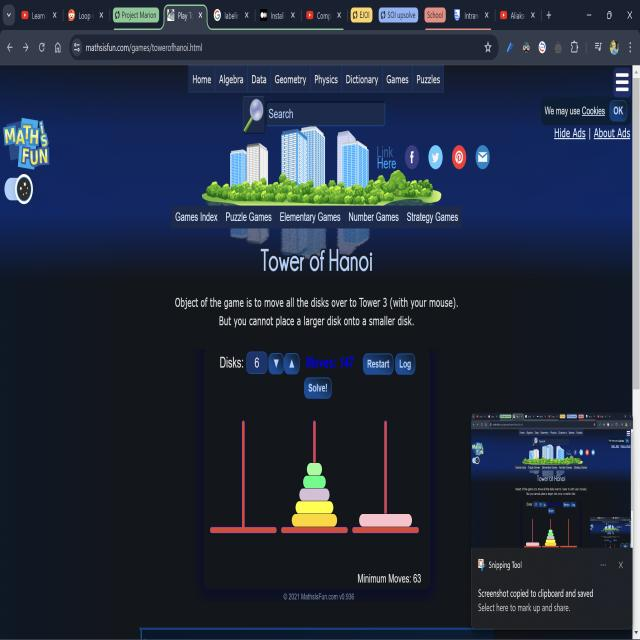disk1: (307, 462, 322, 476)
disk2: (303, 476, 326, 488)
disk3: (299, 488, 330, 501)
disk4: (296, 501, 334, 514)
disk5: (292, 514, 337, 526)
disk6: (359, 514, 412, 527)
